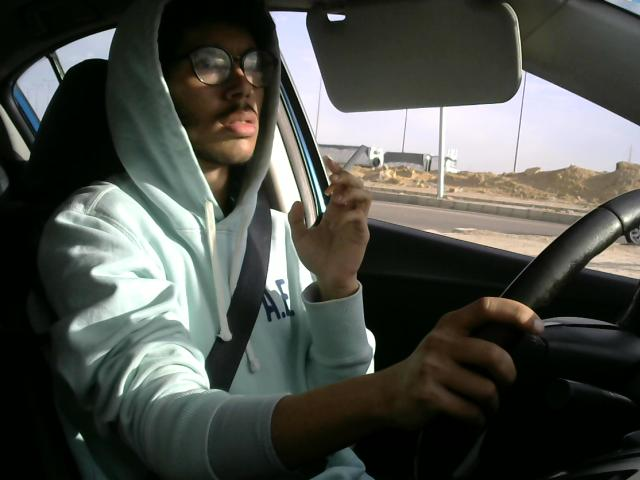Smoking: (324, 135, 369, 201)
